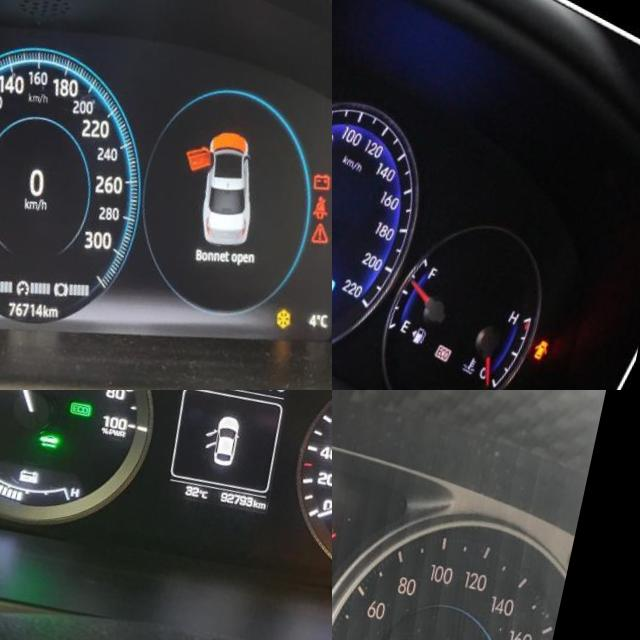Central Warning lamp: (319, 190, 332, 218)
Doors: (546, 308, 568, 335)
